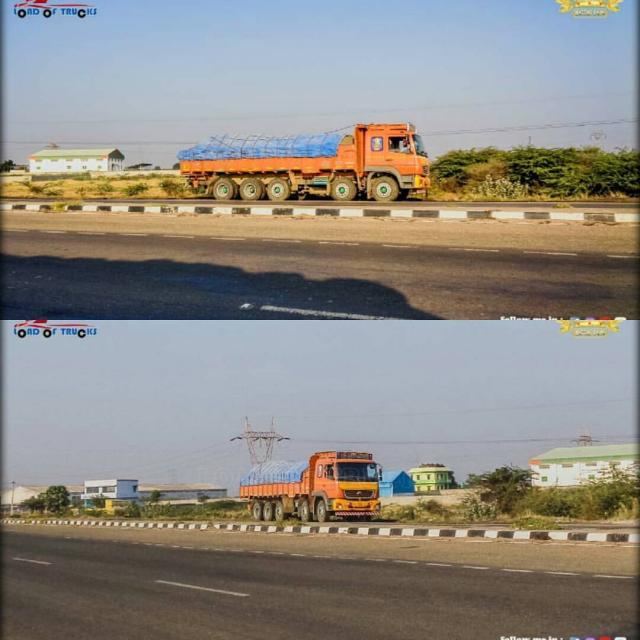Truck: (173, 121, 438, 210), (212, 448, 389, 528)
